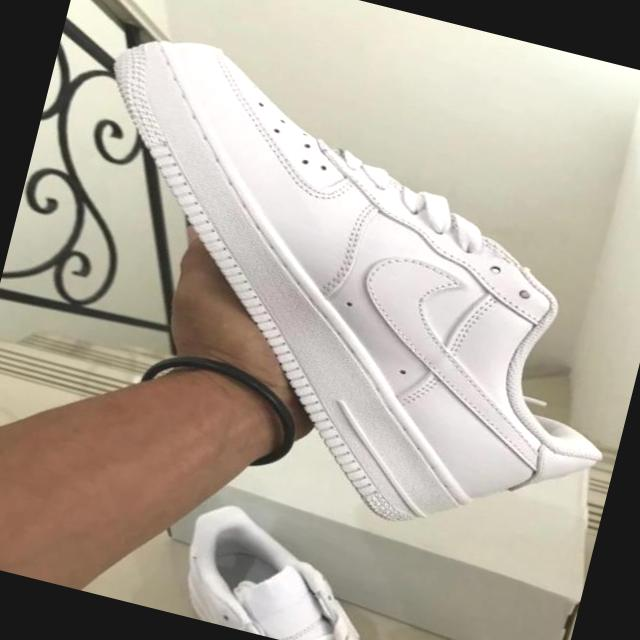nike_original_airforce: (12, 19, 640, 571)
